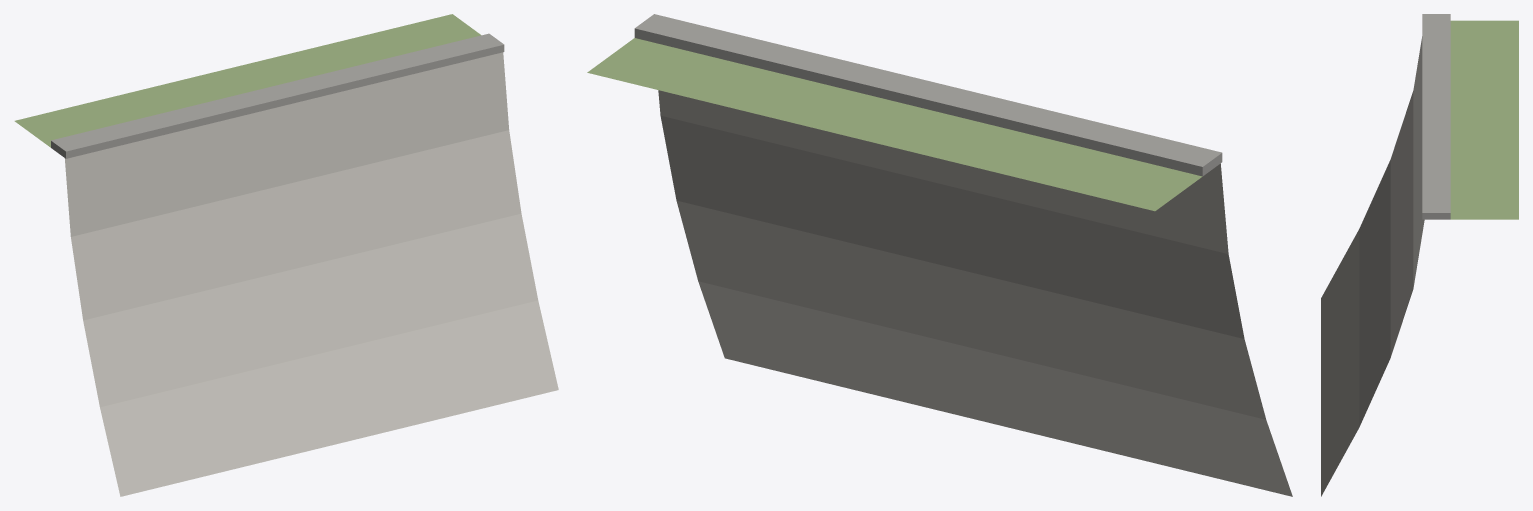
Rendered from HK_Ishigaki_Tall.glb.
3 views of the same model, side by side, from view 1: azimuth 30°, elevation 25°; view 2: azimuth 150°, elevation 25°; view 3: azimuth 270°, elevation 25° (orthographic). The views are drawn at different scales.
Visible parts, largest first — view 1: HK_Ishigaki_Tall; view 2: HK_Ishigaki_Tall; view 3: HK_Ishigaki_Tall.
Part boxes in pixels (x1,y1,x2,y2): HK_Ishigaki_Tall: [14, 14, 558, 496]; HK_Ishigaki_Tall: [587, 14, 1292, 496]; HK_Ishigaki_Tall: [1321, 14, 1518, 496].
Bounding box in the file's own units: 10 × 6.66 × 4.2.
